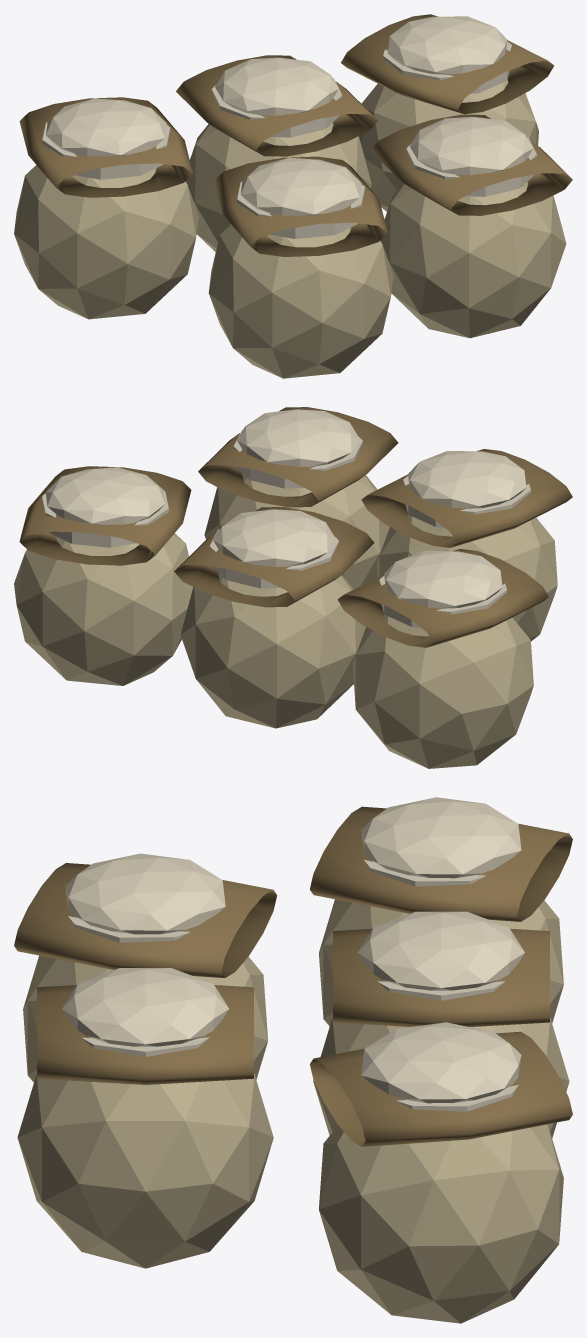
File: pile-flour-5.gltf
3 renders of one model, top to bottom at view 1: azimuth 30°, elevation 25°; view 2: azimuth 150°, elevation 25°; view 3: azimuth 270°, elevation 25°, orthographic. The views are drawn at different scales.
Parts seen in each view (by area): view 1: pile-flour-5; view 2: pile-flour-5; view 3: pile-flour-5.
Part boxes in pixels (left/top/right/bottom): pile-flour-5: left=14, top=14, right=572, bottom=378; pile-flour-5: left=14, top=407, right=572, bottom=768; pile-flour-5: left=14, top=797, right=572, bottom=1323.
Bounding box in the file's own units: 0.7915 × 0.3065 × 0.567.
